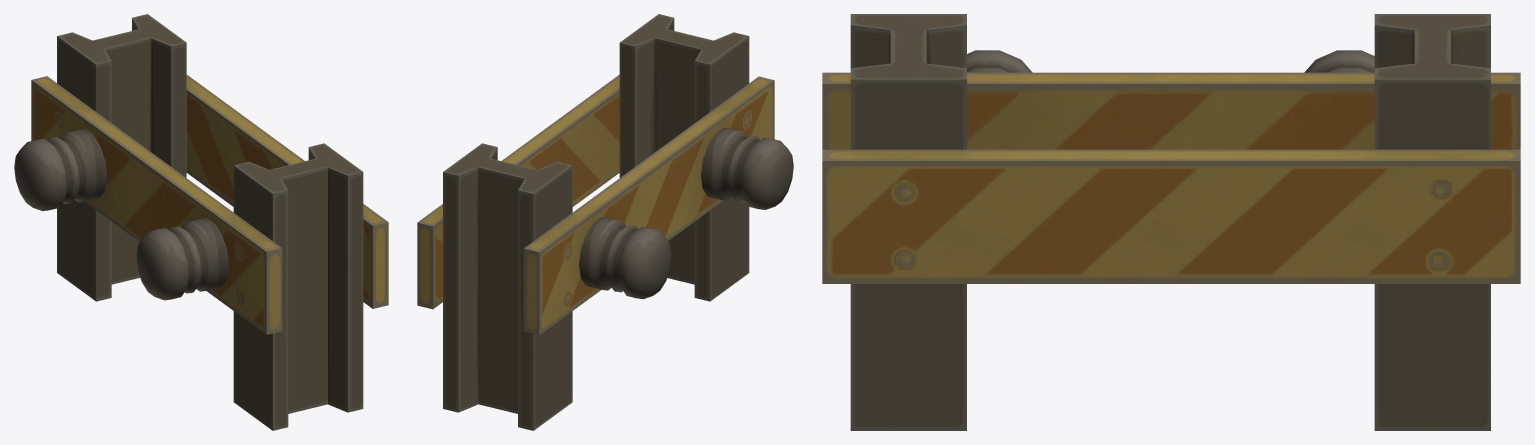
The model's file is SM_stop_rails.glb.
3 views of the same model, side by side, from view 1: azimuth 30°, elevation 25°; view 2: azimuth 150°, elevation 25°; view 3: azimuth 270°, elevation 25° (orthographic). The views are drawn at different scales.
Parts seen in each view (by area): view 1: SM_stop_rails; view 2: SM_stop_rails; view 3: SM_stop_rails.
Boxes of the visible parts, x1,y1,x2,y2 form: SM_stop_rails: [14, 14, 388, 430]; SM_stop_rails: [417, 14, 793, 430]; SM_stop_rails: [822, 14, 1520, 430].
Bounding box in the file's own units: 0.8265 × 1 × 1.8.
Materials: 1 (1 with a texture image).
